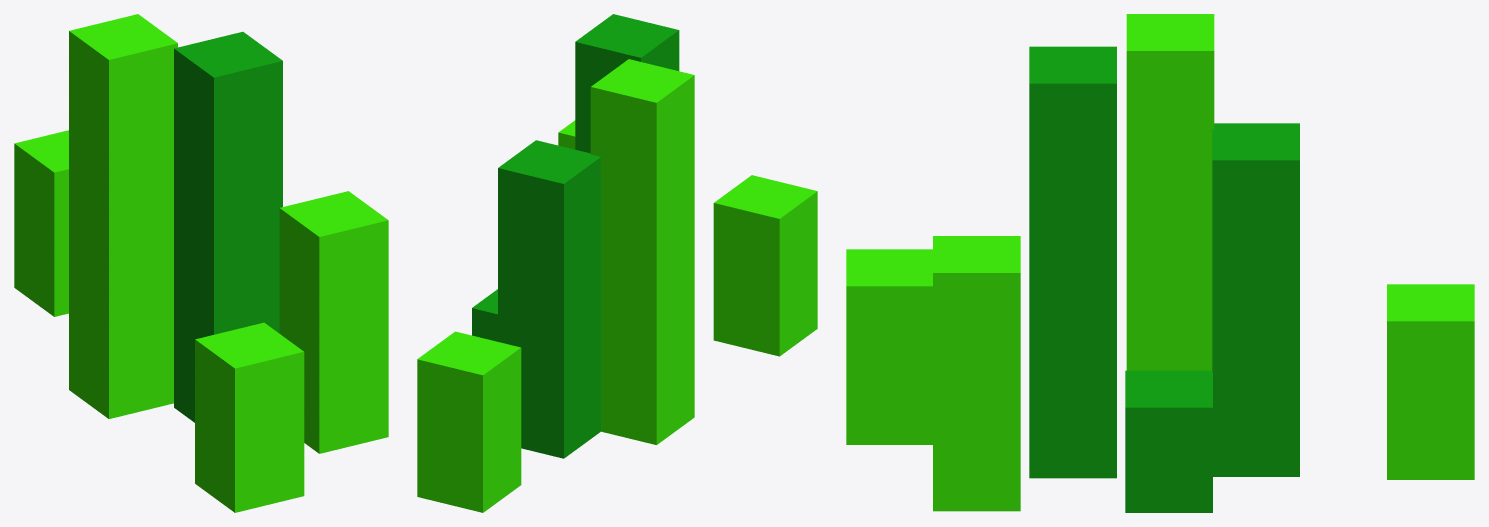
The model's file is grass1.fbx.
The picture shows the model from 3 angles, left to right: view 1: azimuth 30°, elevation 25°; view 2: azimuth 150°, elevation 25°; view 3: azimuth 270°, elevation 25°; orthographic projection. The views are drawn at different scales.
Parts seen in each view (by area): view 1: Cube.011, Cube.005, Cube.007, Cube.009, Cube.010; view 2: Cube.011, Cube.006, Cube.009, Cube.010, Cube.005, Cube.008; view 3: Cube.005, Cube.011, Cube.006, Cube.007, Cube.010, Cube.009, Cube.008.
Part boxes in pixels (x1=…): Cube.011: x1=69, y1=14, x2=177, y2=418; Cube.005: x1=174, y1=31, x2=282, y2=422; Cube.007: x1=279, y1=191, x2=388, y2=453; Cube.009: x1=195, y1=322, x2=304, y2=512; Cube.010: x1=14, y1=130, x2=68, y2=316; Cube.011: x1=590, y1=59, x2=694, y2=444; Cube.006: x1=498, y1=140, x2=600, y2=458; Cube.009: x1=713, y1=175, x2=817, y2=356; Cube.010: x1=417, y1=331, x2=521, y2=512; Cube.005: x1=575, y1=14, x2=679, y2=153; Cube.008: x1=472, y1=289, x2=497, y2=341; Cube.005: x1=1029, y1=46, x2=1116, y2=478; Cube.011: x1=1126, y1=14, x2=1214, y2=370; Cube.006: x1=1212, y1=123, x2=1299, y2=476; Cube.007: x1=933, y1=236, x2=1020, y2=511; Cube.010: x1=1387, y1=284, x2=1474, y2=479; Cube.009: x1=846, y1=249, x2=932, y2=444; Cube.008: x1=1125, y1=370, x2=1212, y2=512.
Bounding box in the file's own units: 34.54 × 60.43 × 87.18.
